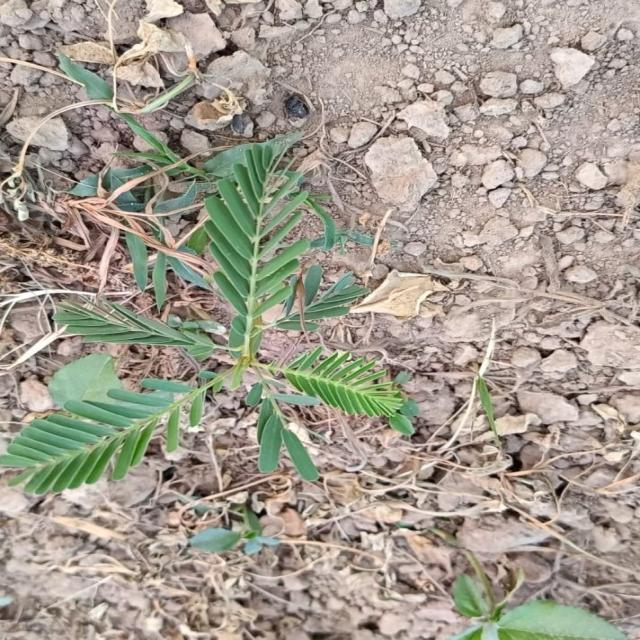plant: (0, 114, 415, 493)
